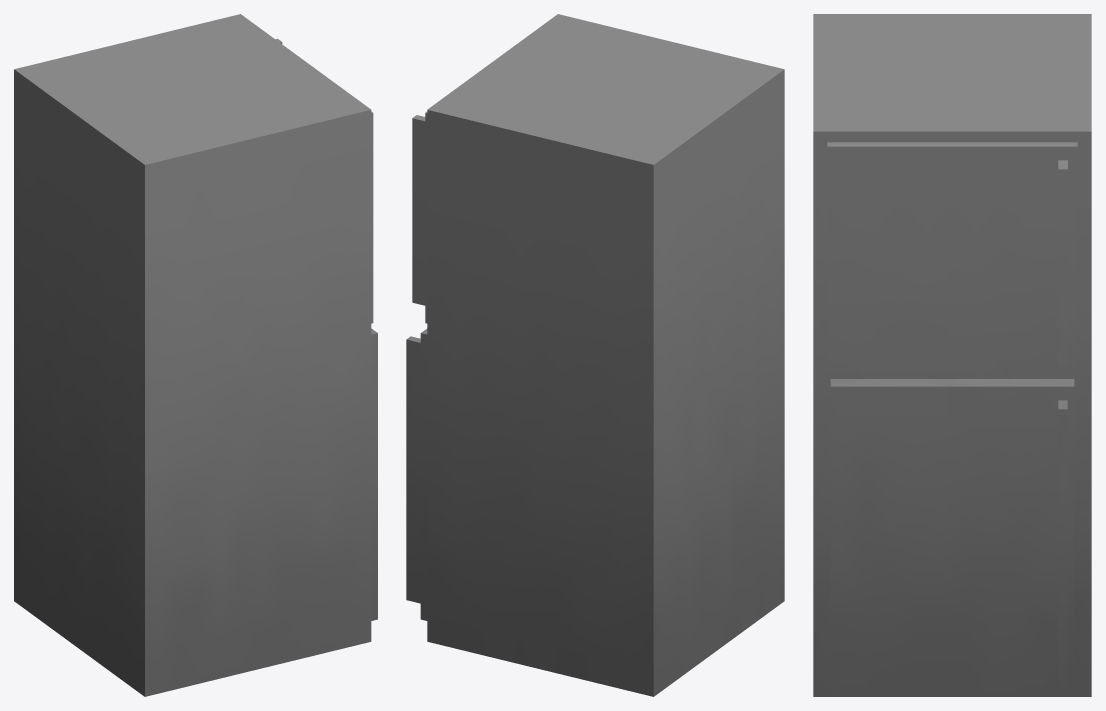
File: Fridge.glb
3 views of the same model, side by side, from view 1: azimuth 30°, elevation 25°; view 2: azimuth 150°, elevation 25°; view 3: azimuth 270°, elevation 25° (orthographic). The views are drawn at different scales.
Parts seen in each view (by area): view 1: Fridge_Baked; view 2: Fridge_Baked; view 3: Fridge_Baked.
Boxes of the visible parts, <box> form: Fridge_Baked: <box>14,14,377,696</box>; Fridge_Baked: <box>406,14,784,696</box>; Fridge_Baked: <box>813,14,1091,696</box>.
Bounding box in the file's own units: 5.2 × 10.22 × 4.56.
Materials: 1 (1 with a texture image).
